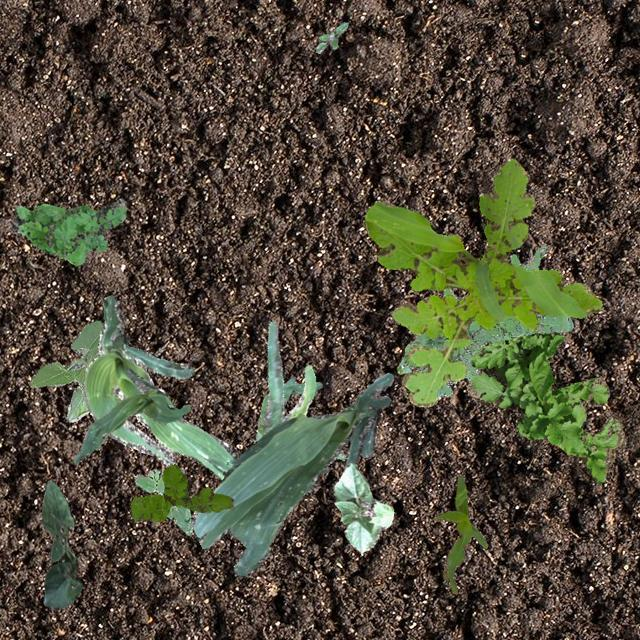crop: (190, 372, 392, 576), (82, 294, 235, 478), (262, 320, 344, 460), (74, 368, 188, 463), (28, 320, 122, 420), (432, 476, 487, 592), (38, 480, 82, 608), (332, 462, 392, 552), (254, 376, 322, 440)
weed: (364, 157, 600, 406), (397, 242, 572, 398), (466, 332, 624, 482), (10, 198, 126, 264), (130, 464, 232, 520), (134, 466, 192, 534), (315, 20, 347, 52)
